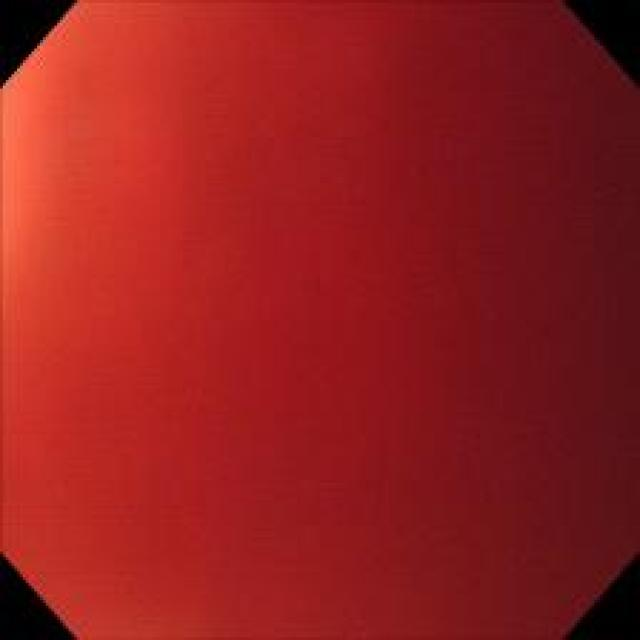color misalignment: (6, 6, 634, 632)
